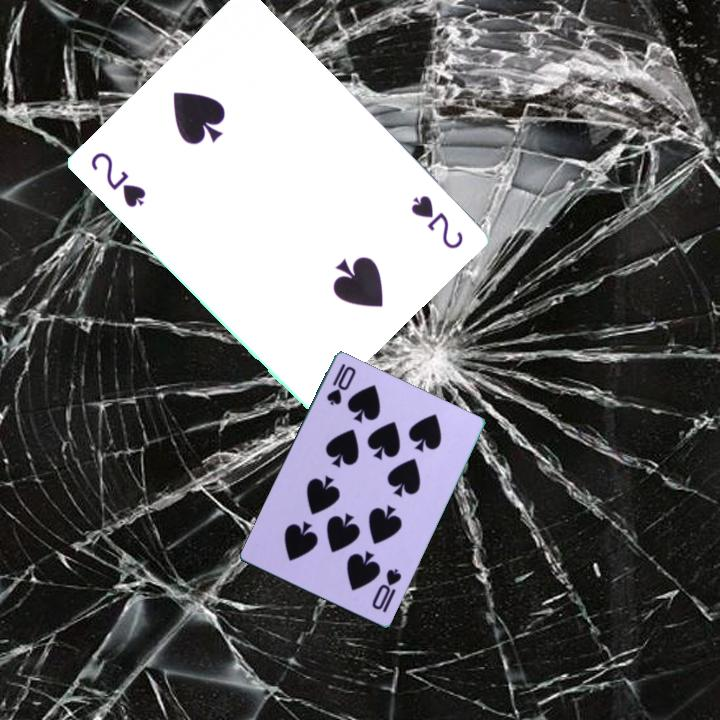10s: (368, 564, 405, 616), (323, 360, 359, 409)
2s: (86, 148, 149, 211), (406, 191, 466, 252)
